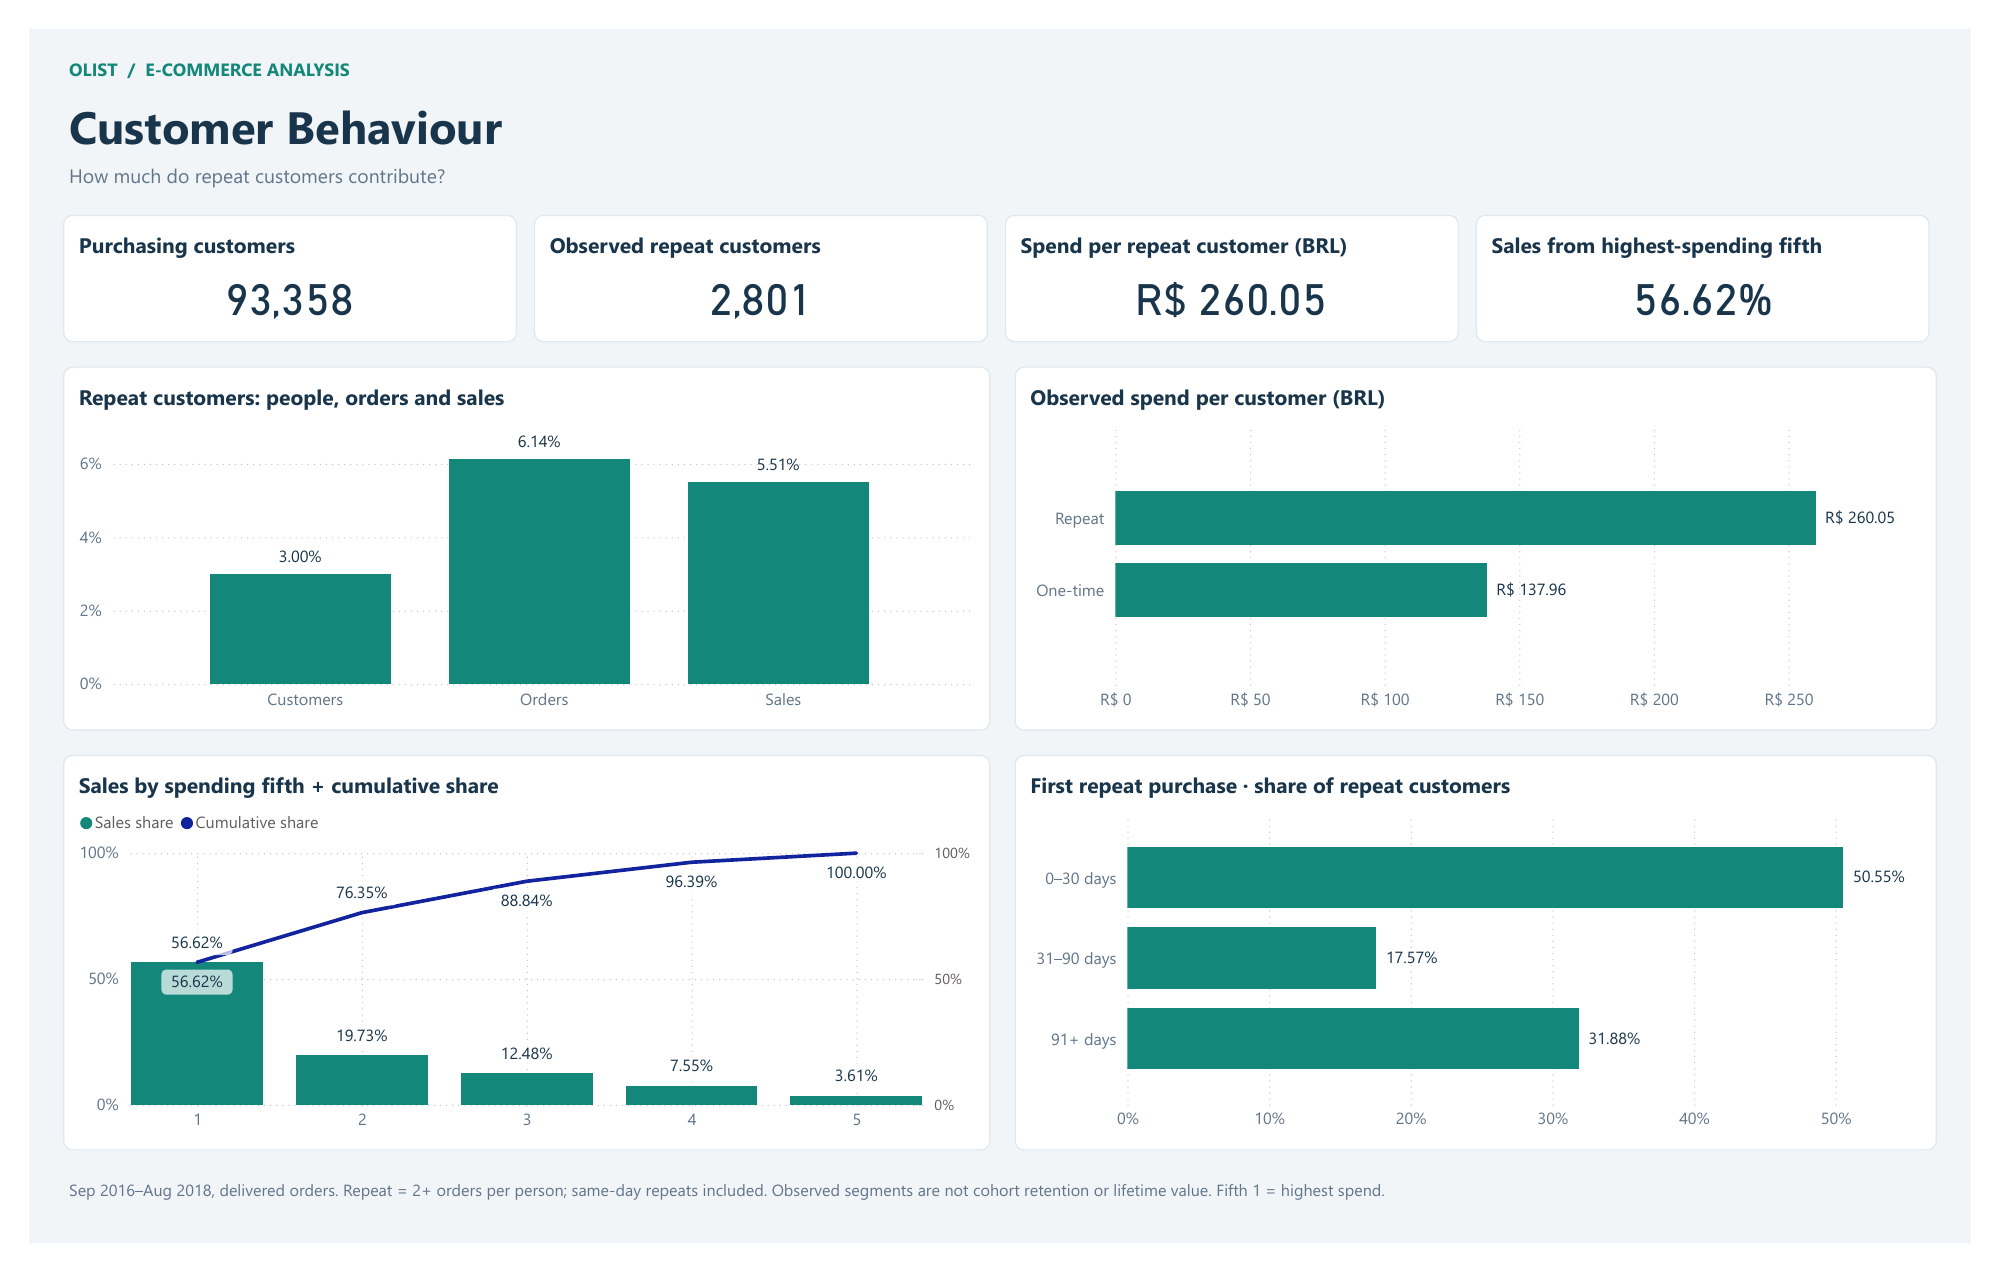

Layout of this report page (visuals, bound fields, positions):
{"tool":"powerbi","page":{"name":"Customer Behaviour","canvas":[1600,1000],"ordinal":1},"visuals":[{"type":"textbox","box":[28,18,1300,42],"z":0},{"type":"textbox","box":[28,50,1500,70],"z":1000},{"type":"textbox","box":[28,105,1500,43],"z":2000},{"type":"card","title":"Purchasing customers","fields":{"Values":["q2_customer_segments.Purchasing customers"]},"box":[28,153,374,105],"z":3000},{"type":"card","title":"Observed repeat customers","fields":{"Values":["q2_customer_segments.Repeat customers"]},"box":[416,153,374,105],"z":4000},{"type":"card","title":"Spend per repeat customer (BRL)","fields":{"Values":["q2_customer_segments.Repeat customer spend"]},"box":[804,153,374,105],"z":5000},{"type":"card","title":"Sales from highest-spending fifth","fields":{"Values":["q2_quintiles.Top fifth sales share"]},"box":[1192,153,374,105],"z":6000},{"type":"clusteredColumnChart","title":"Repeat customers: people, orders and sales","fields":{"Category":["RepeatContribution.metric"],"Y":["RepeatContribution.Repeat segment share"]},"box":[28,278,764,300],"z":7000},{"type":"clusteredBarChart","title":"Observed spend per customer (BRL)","fields":{"Category":["q2_customer_segments.customer_type"],"Y":["q2_customer_segments.Spend per customer"]},"box":[812,278,760,300],"z":8000},{"type":"lineClusteredColumnComboChart","title":"Sales by spending fifth + cumulative share","fields":{"Category":["q2_quintiles.quintile"],"Y":["q2_quintiles.Sales share"],"Y2":["q2_quintiles.Cumulative share"]},"box":[28,598,764,326],"z":9000},{"type":"clusteredBarChart","title":"First repeat purchase · share of repeat customers","fields":{"Category":["q2_repurchase.interval_bucket"],"Y":["q2_repurchase.Repeat customer share"]},"box":[812,598,760,326],"z":10000},{"type":"textbox","box":[28,943,1544,42],"z":11000}]}

Visuals, with their boxes in screenshot pixels (x1, y1, x2, y2), scaled from the page's 1600x1000 canvas onto the 2000x1272 screenshot:
textbox: 35, 23, 1660, 76
textbox: 35, 64, 1910, 153
textbox: 35, 134, 1910, 188
"Purchasing customers" card: 35, 195, 502, 328
"Observed repeat customers" card: 520, 195, 988, 328
"Spend per repeat customer (BRL)" card: 1005, 195, 1472, 328
"Sales from highest-spending fifth" card: 1490, 195, 1958, 328
"Repeat customers: people, orders and sales" clusteredColumnChart: 35, 354, 990, 735
"Observed spend per customer (BRL)" clusteredBarChart: 1015, 354, 1965, 735
"Sales by spending fifth + cumulative share" lineClusteredColumnComboChart: 35, 761, 990, 1175
"First repeat purchase · share of repeat customers" clusteredBarChart: 1015, 761, 1965, 1175
textbox: 35, 1199, 1965, 1253
